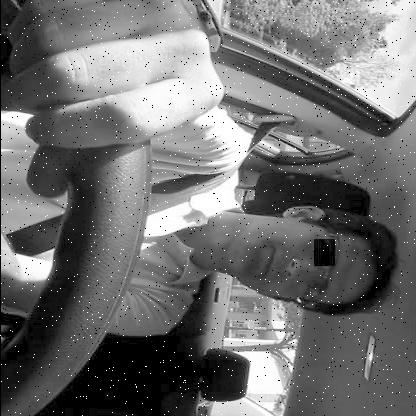seatbelt: (0, 110, 413, 322)
